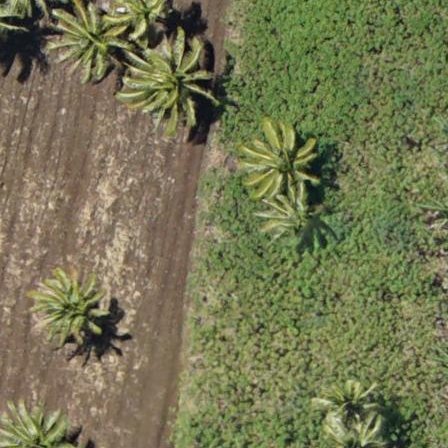palm_tree: (127, 36, 216, 124), (30, 265, 115, 345), (240, 124, 320, 203), (55, 8, 127, 78), (320, 372, 382, 438), (260, 195, 324, 246)
